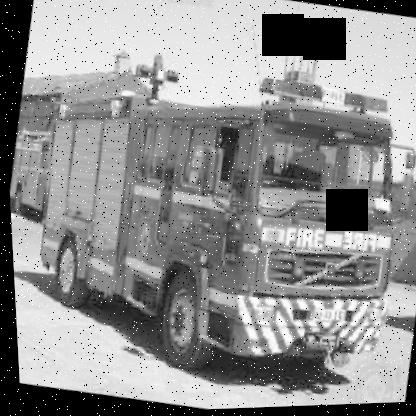emergency: (1, 17, 416, 415)
